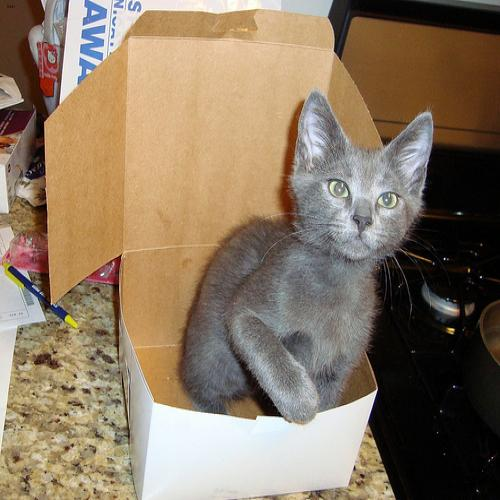rblue: (280, 76, 443, 272)
